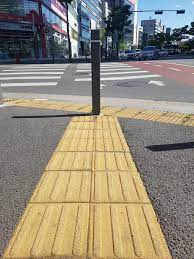guide_blocks: (3, 170, 171, 258), (42, 115, 137, 172), (107, 106, 194, 126), (3, 100, 97, 114)
